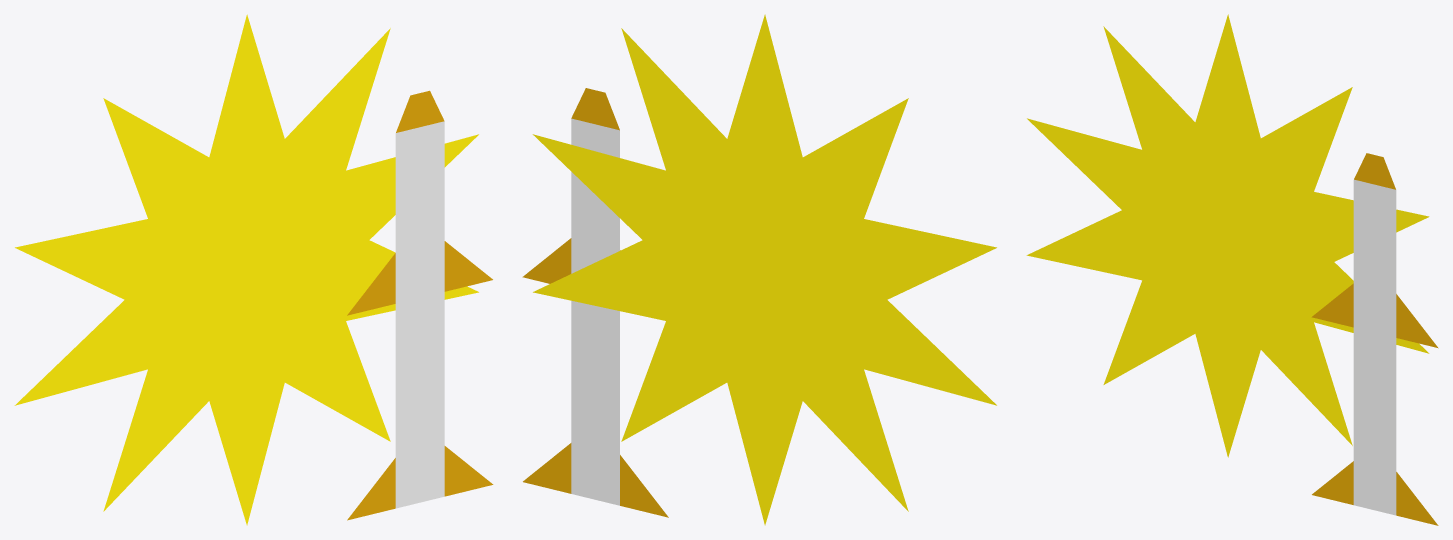
The picture shows the model from 3 angles, left to right: view 1: azimuth 30°, elevation 25°; view 2: azimuth 150°, elevation 25°; view 3: azimuth 330°, elevation 25°; orthographic projection. The views are drawn at different scales.
Parts seen in each view (by area): view 1: burst, missile; view 2: burst, missile; view 3: burst, missile.
Part boxes in pixels (x1,y1,x2,y2): burst: [14, 14, 478, 525]; missile: [347, 90, 493, 520]; burst: [532, 14, 996, 525]; missile: [522, 88, 668, 517]; burst: [1026, 14, 1429, 457]; missile: [1311, 153, 1438, 525].
Bounding box in the file's own units: 0.7316 × 0.775 × 0.005.
